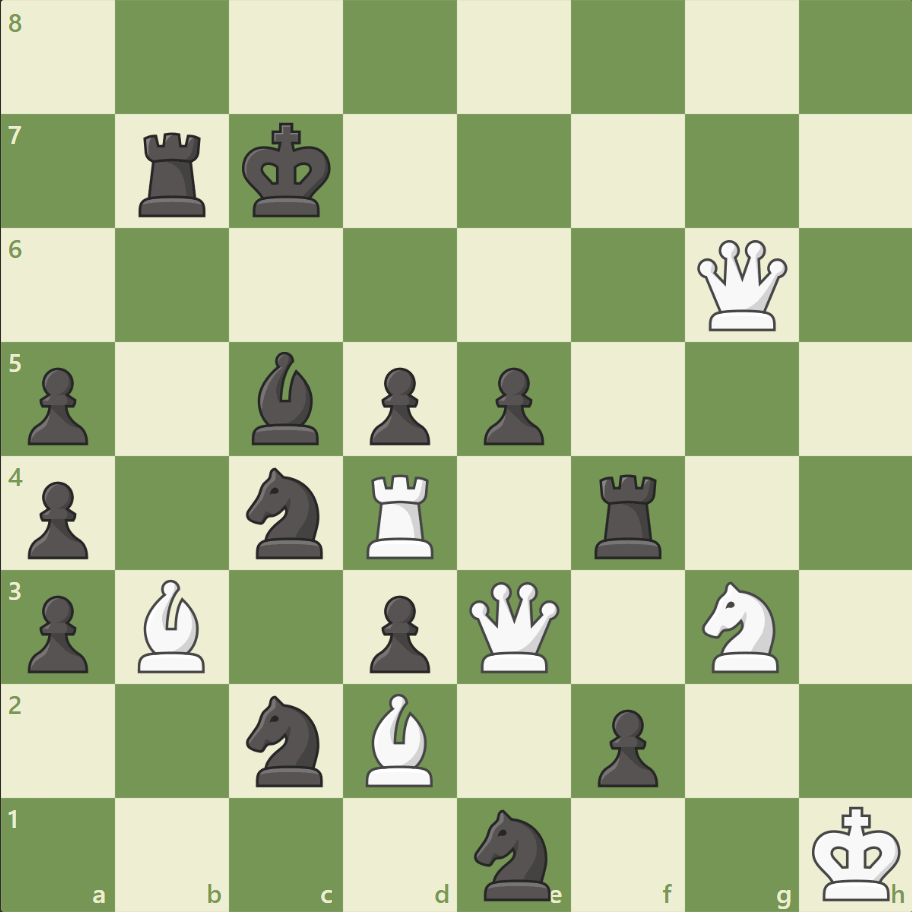B: (358, 687, 442, 790), (131, 574, 215, 676)
K: (806, 798, 906, 906)
N: (692, 575, 789, 677)
Q: (464, 576, 563, 676), (691, 236, 790, 335)
R: (360, 466, 442, 563)
b: (244, 347, 328, 449)
k: (238, 117, 338, 225)
n: (238, 461, 335, 564), (238, 688, 335, 791), (465, 802, 562, 904)
p: (20, 359, 95, 450), (474, 359, 549, 450), (20, 473, 95, 564), (20, 586, 95, 677), (361, 359, 435, 450), (361, 586, 435, 677), (588, 700, 662, 791)
r: (587, 466, 670, 563), (133, 125, 215, 222)
